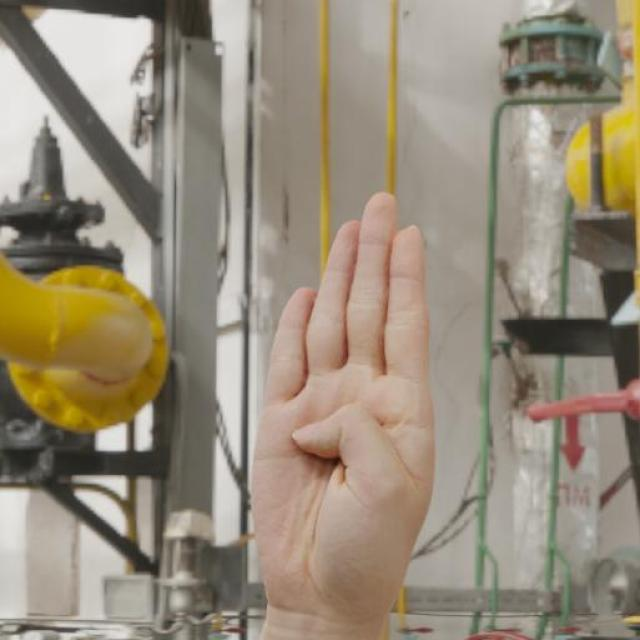B: (246, 188, 440, 630)
